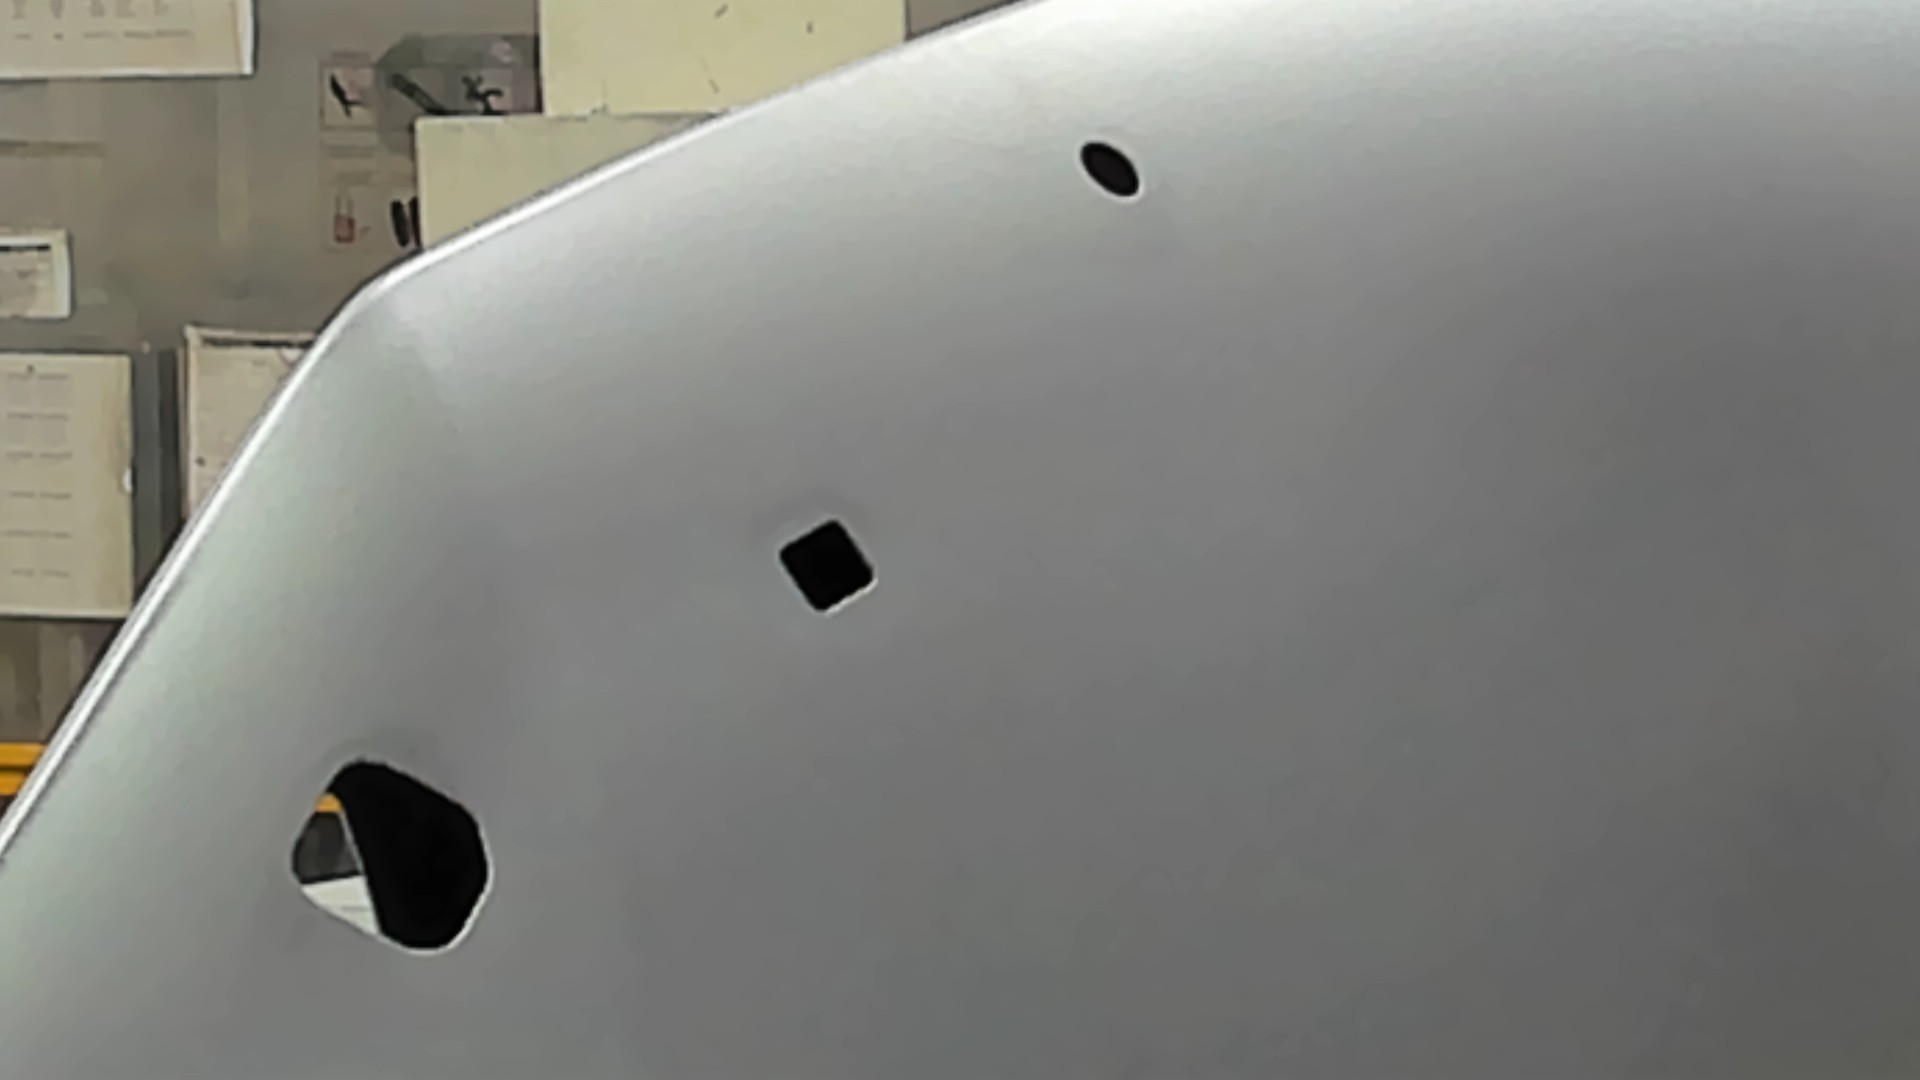chico: (1077, 136, 1149, 203)
grande: (287, 753, 493, 961)
mediano: (775, 516, 881, 617)
